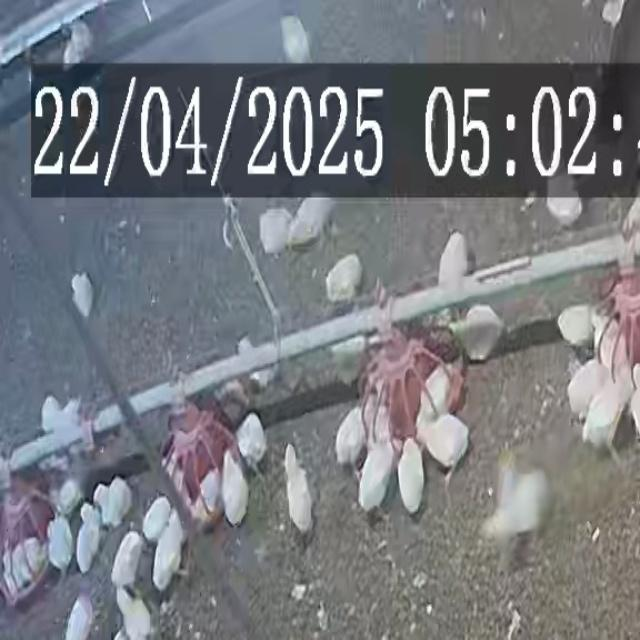chicken: (482, 451, 550, 543), (580, 370, 630, 456), (417, 410, 472, 483), (282, 442, 316, 538), (454, 305, 504, 363), (357, 439, 396, 513), (220, 447, 252, 531), (152, 513, 186, 589), (565, 358, 607, 418), (396, 438, 428, 514), (94, 472, 137, 528), (320, 252, 363, 304), (110, 530, 146, 589), (187, 467, 221, 528), (555, 304, 596, 351), (334, 406, 366, 465), (235, 412, 267, 467), (420, 364, 452, 418), (75, 509, 102, 572), (46, 514, 74, 572), (142, 495, 174, 543)
